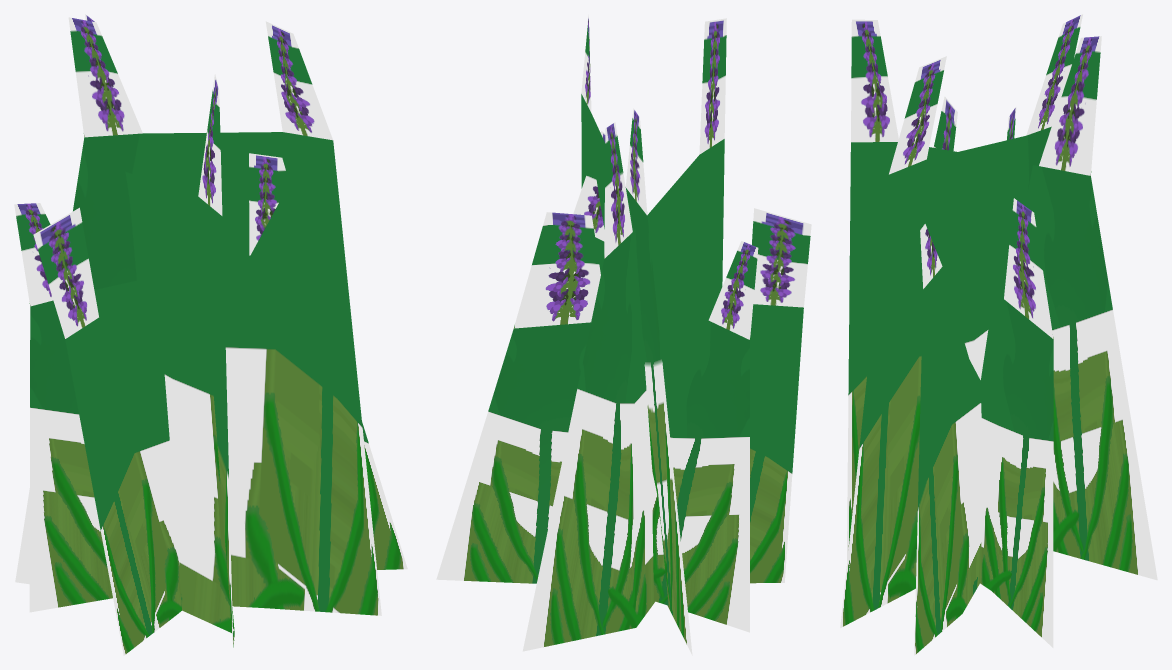
The model's file is PT_Lavender_02.fbx.
The picture shows the model from 3 angles, left to right: view 1: azimuth 30°, elevation 25°; view 2: azimuth 150°, elevation 25°; view 3: azimuth 270°, elevation 25°; orthographic projection. The views are drawn at different scales.
Visible parts, largest first — view 1: PT_Lavender_02_LOD0; view 2: PT_Lavender_02_LOD0; view 3: PT_Lavender_02_LOD0.
Boxes of the visible parts, box(x1,y1,x2,y2) form: PT_Lavender_02_LOD0: box(14, 14, 407, 655); PT_Lavender_02_LOD0: box(436, 14, 811, 655); PT_Lavender_02_LOD0: box(840, 14, 1157, 655).
Size of what is drawn, in the model's own units: 52.06 by 78.89 by 41.75.
